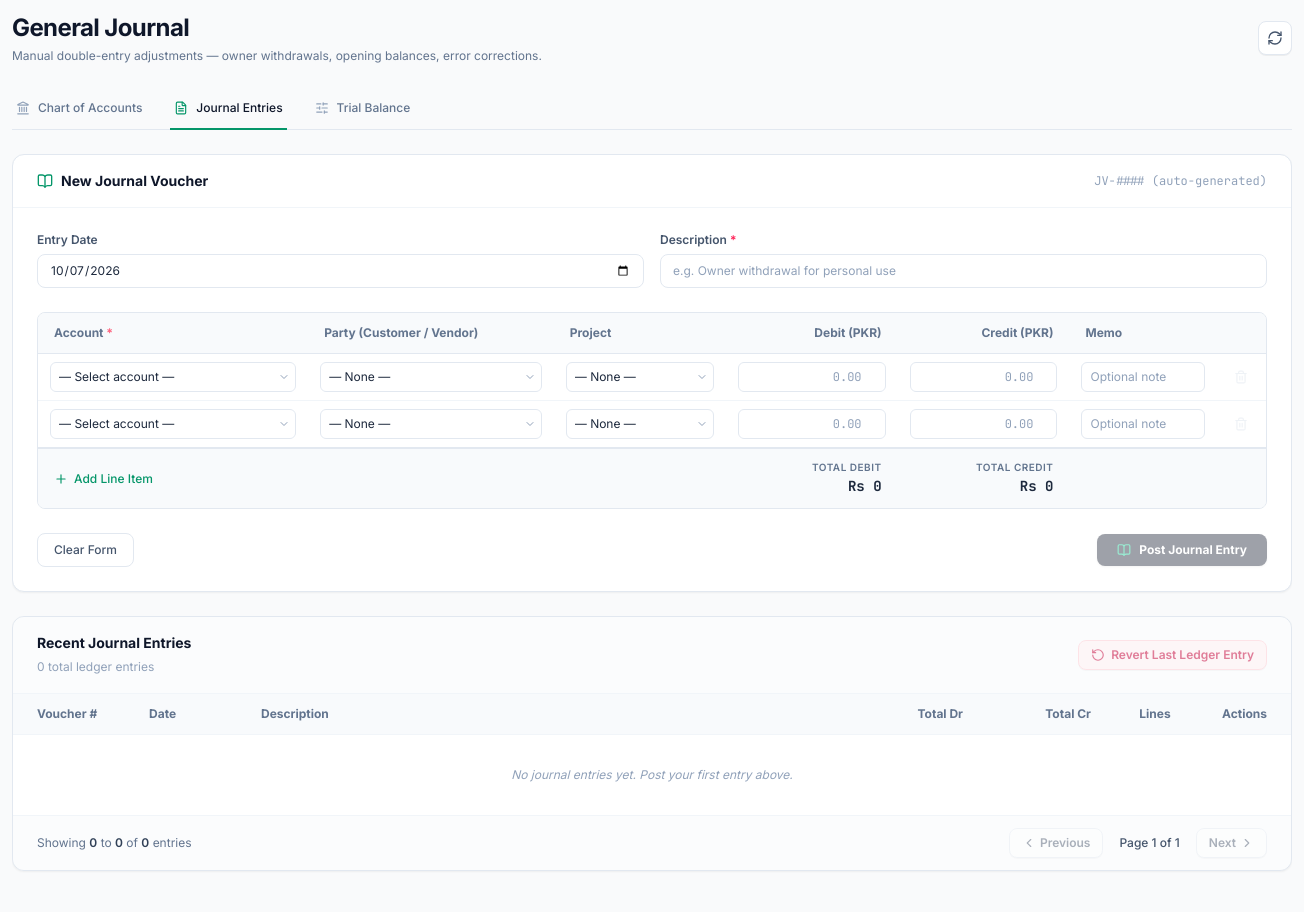
Test: JournalEntryForm / JournalsPage Component › 3. "Post Journal Entry" button is enabled when totalDebits === totalCredits > 0 and required fields are filled
Enter description
In the field with placeholder "e.g. Owner withdrawal for personal use": [964, 271] box [660, 254, 1267, 288], type "Capital contribution"
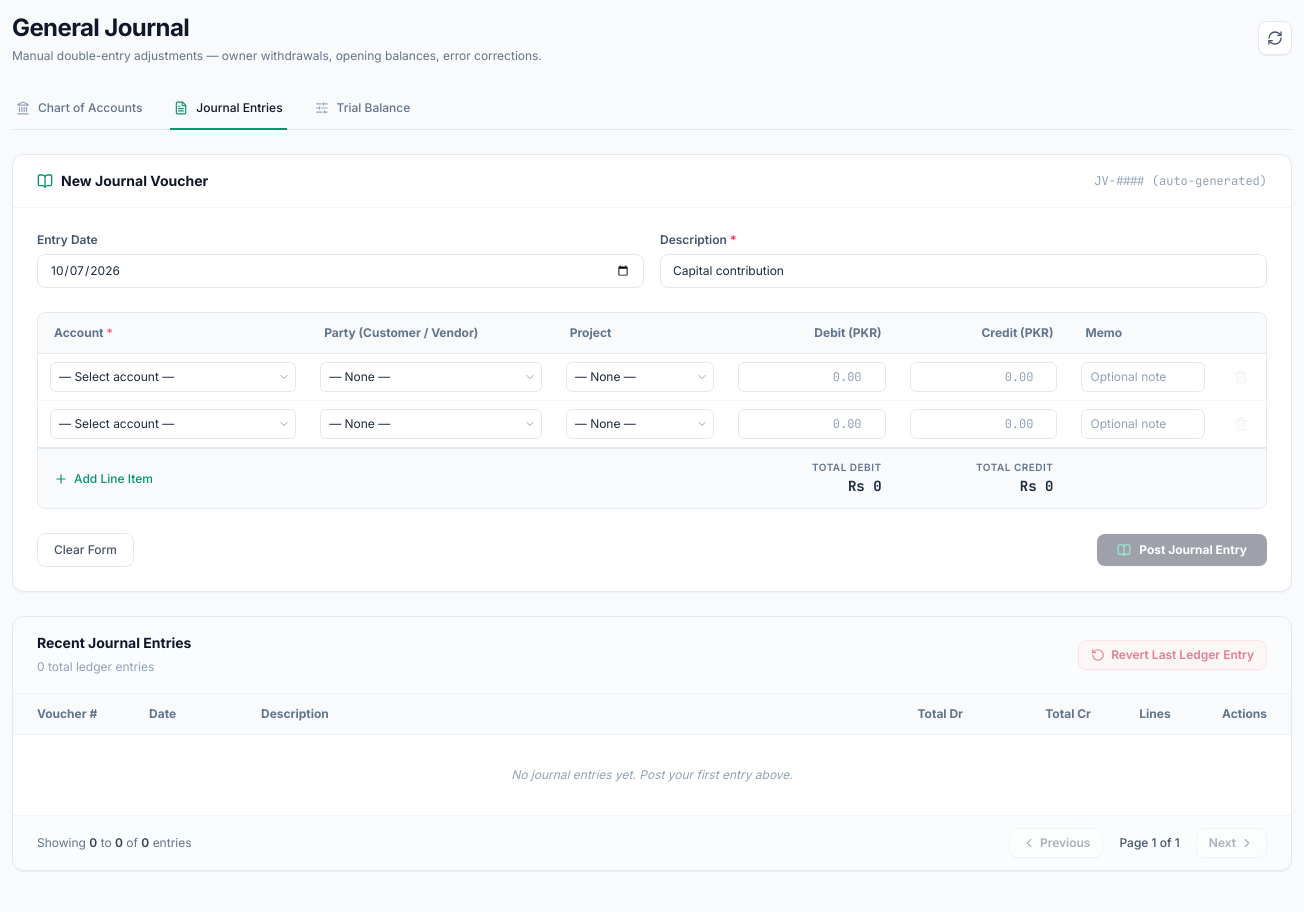
Select "1001 — Cash in Bank" in the 1st dropdown: [173, 377] box [50, 362, 296, 392]
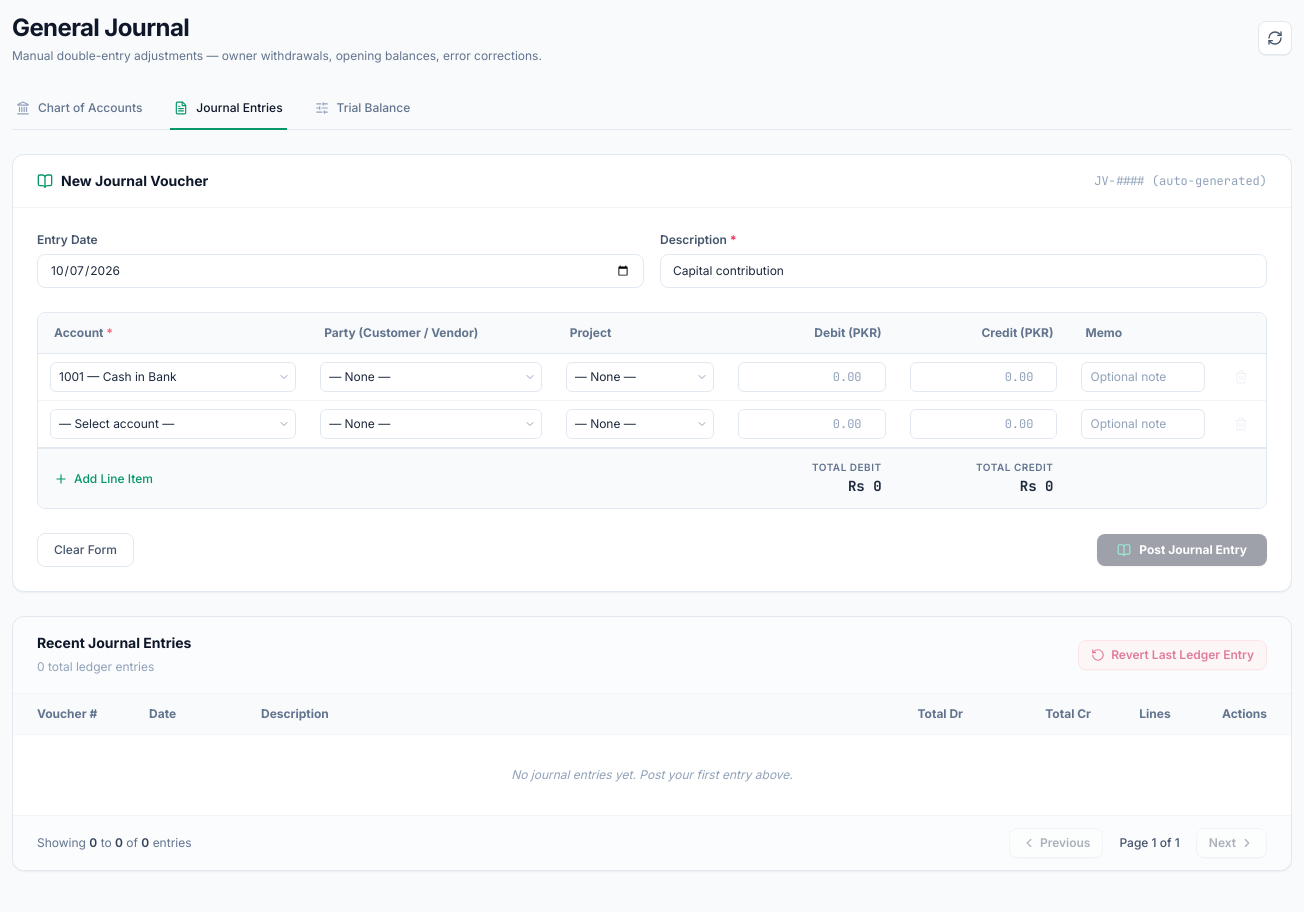
Select "3001 — Owner Equity" in the 4th dropdown: [173, 424] box [50, 409, 296, 439]
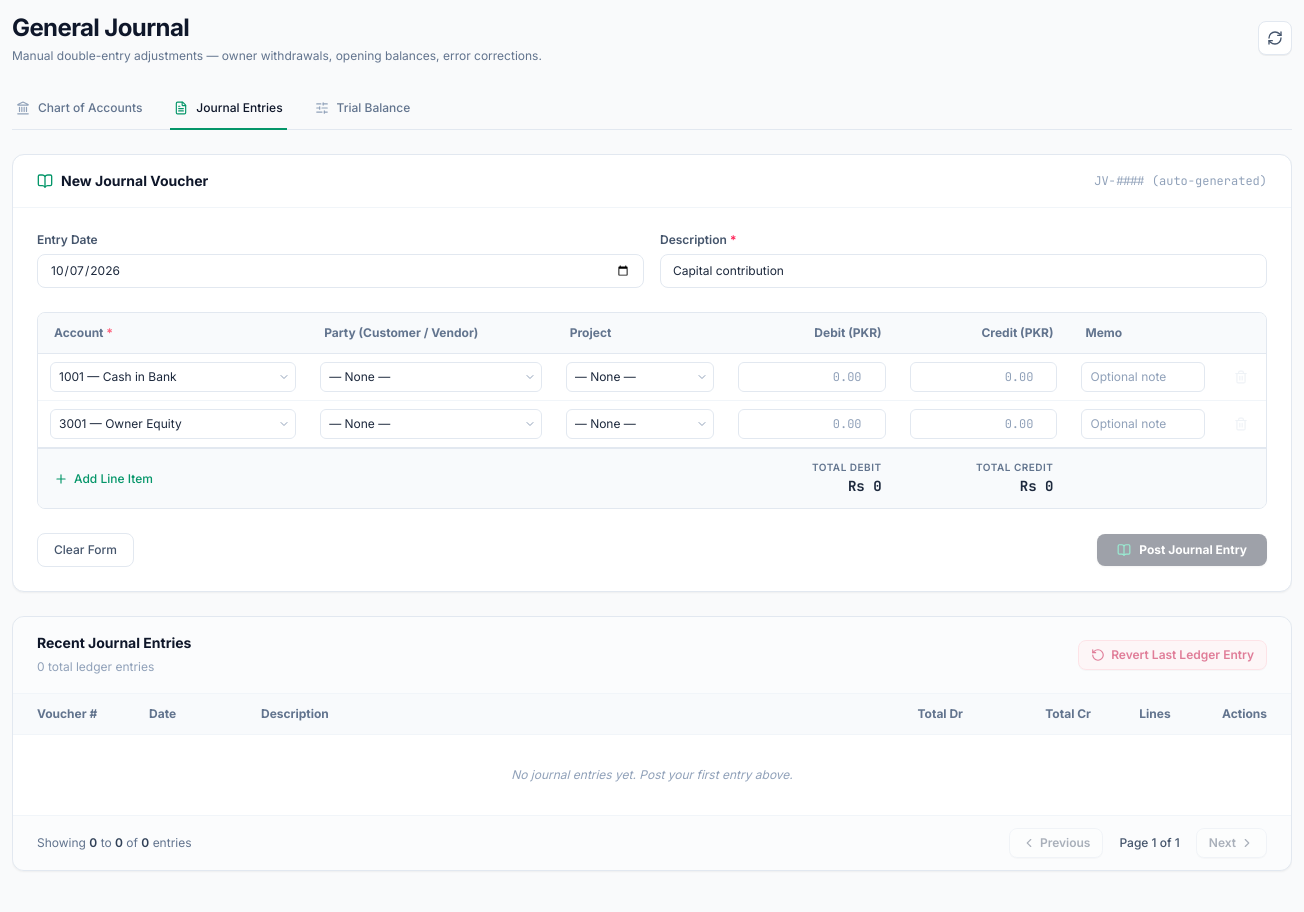
In the 1st number field with placeholder "0.00": [812, 377] box [738, 362, 886, 392], type "5000"
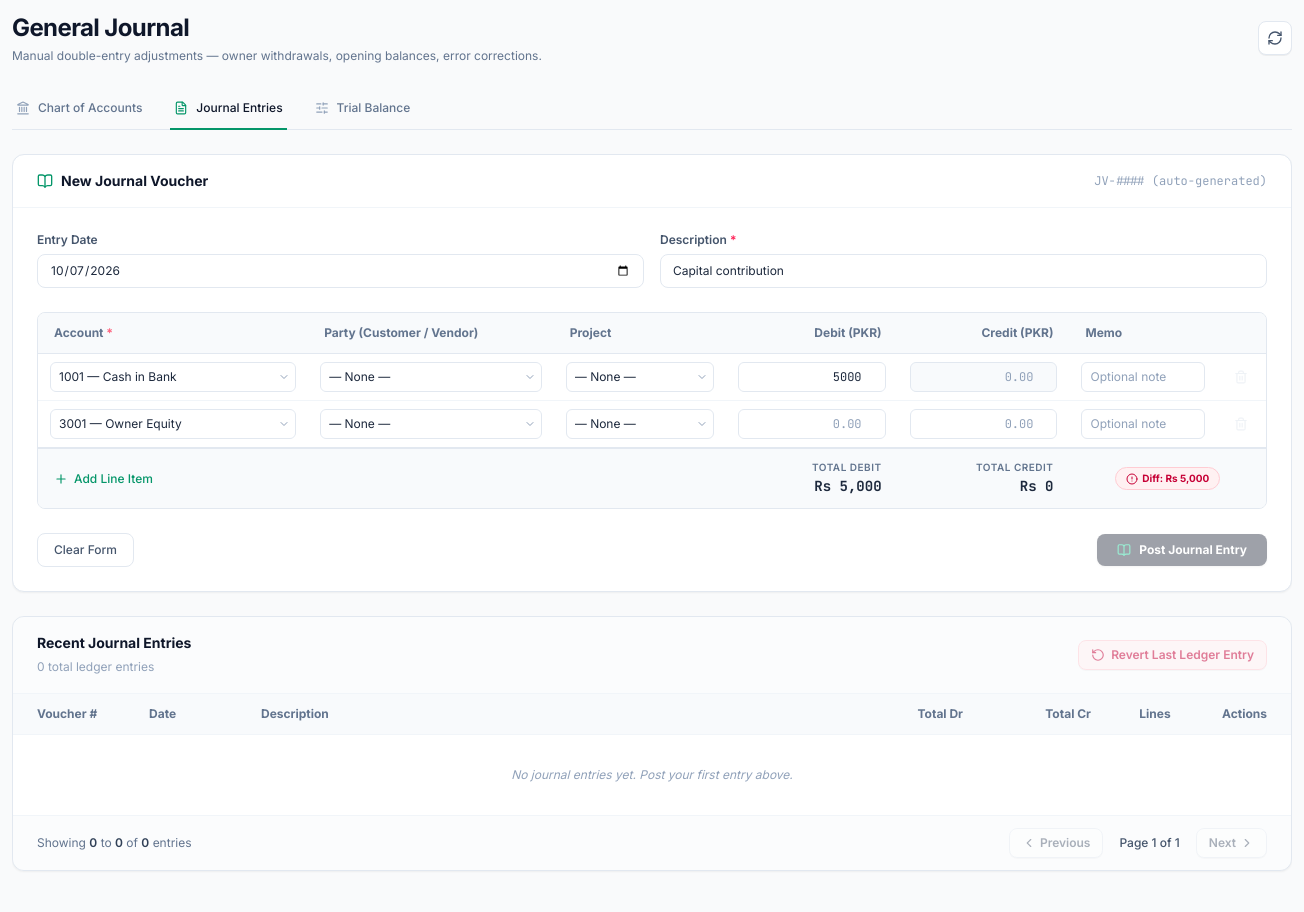
In the 3rd number field with placeholder "0.00": [984, 424] box [910, 409, 1058, 439], type "5000"
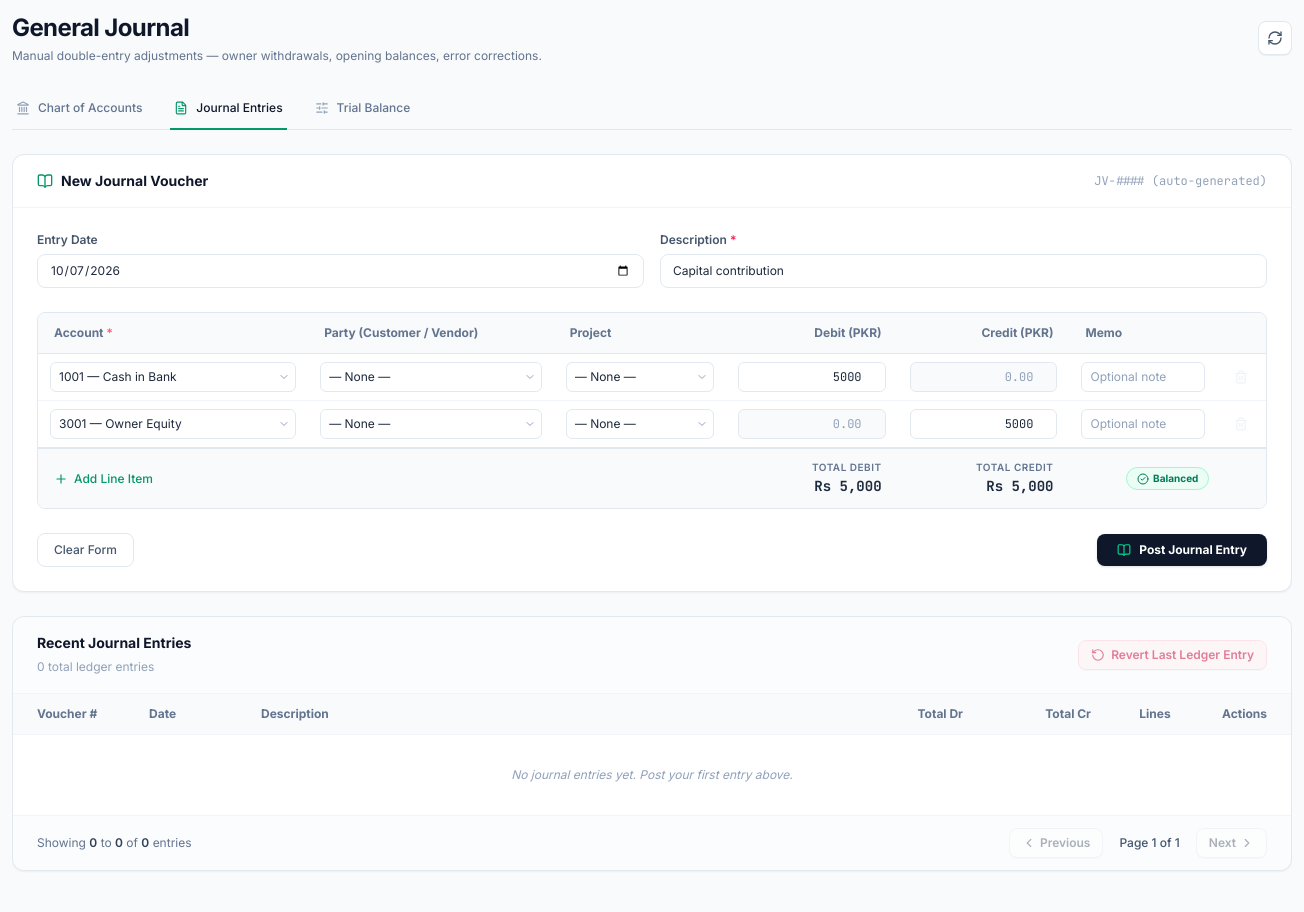
Expected: the button "Post Journal Entry" is enabled, [1097, 534, 1267, 566]
Expected: the text "Balanced" is shown, [1126, 467, 1209, 490]
